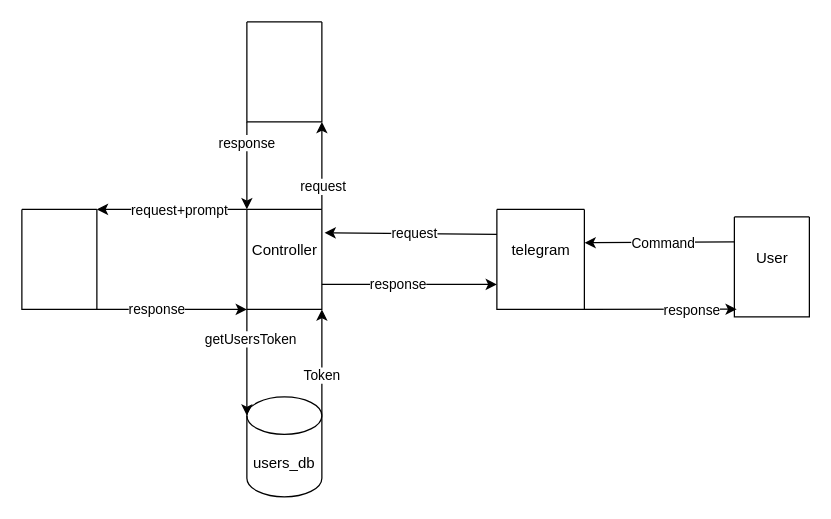
Image size: 831x519. Some labels were removed from this diagram. Each missing label, with the box of its shape:
LLM: (21, 208, 97, 309)
Todoist: (246, 21, 322, 122)
